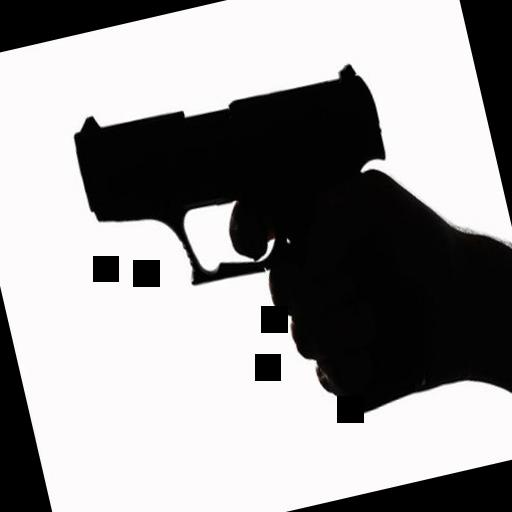Handgun: (68, 50, 446, 461)
